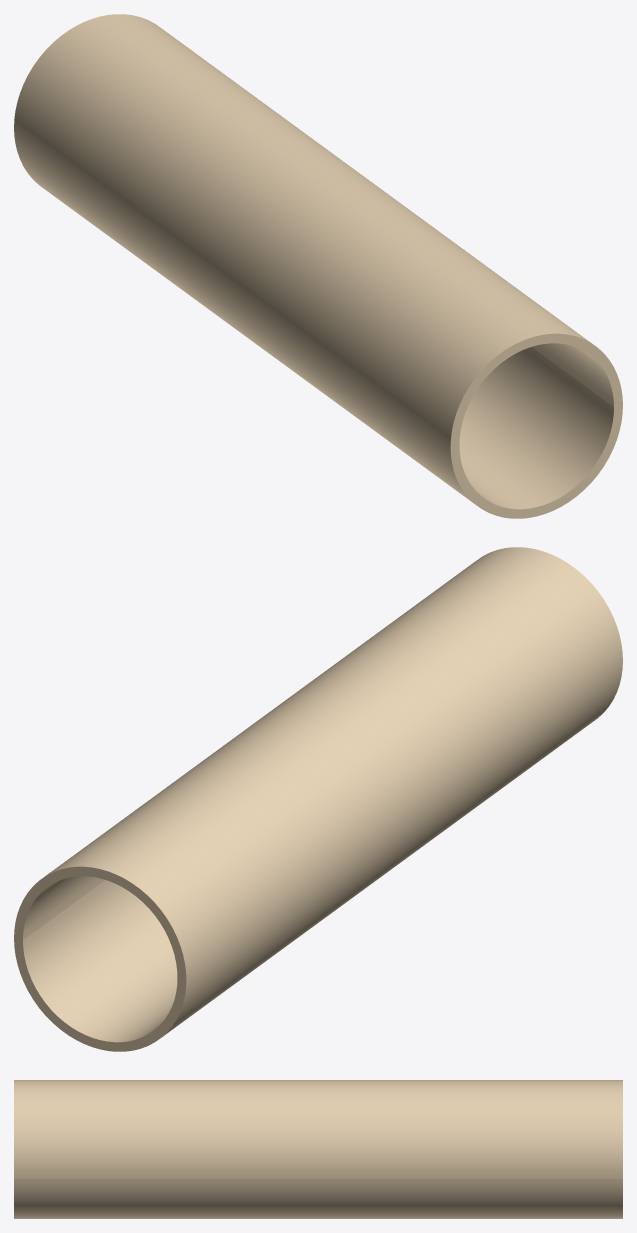
The model's file is duratemp.fbx.
The picture shows the model from 3 angles, top to bottom: view 1: azimuth 30°, elevation 25°; view 2: azimuth 150°, elevation 25°; view 3: azimuth 270°, elevation 25°; orthographic projection. The views are drawn at different scales.
Visible parts, largest first — view 1: Objeto_1; view 2: Objeto_1; view 3: Objeto_1.
Boxes of the visible parts, x1,y1,x2,y2 form: Objeto_1: [14, 14, 622, 518]; Objeto_1: [14, 547, 622, 1051]; Objeto_1: [14, 1080, 622, 1218].
Size of the model in its own units: 154 by 154 by 676.
